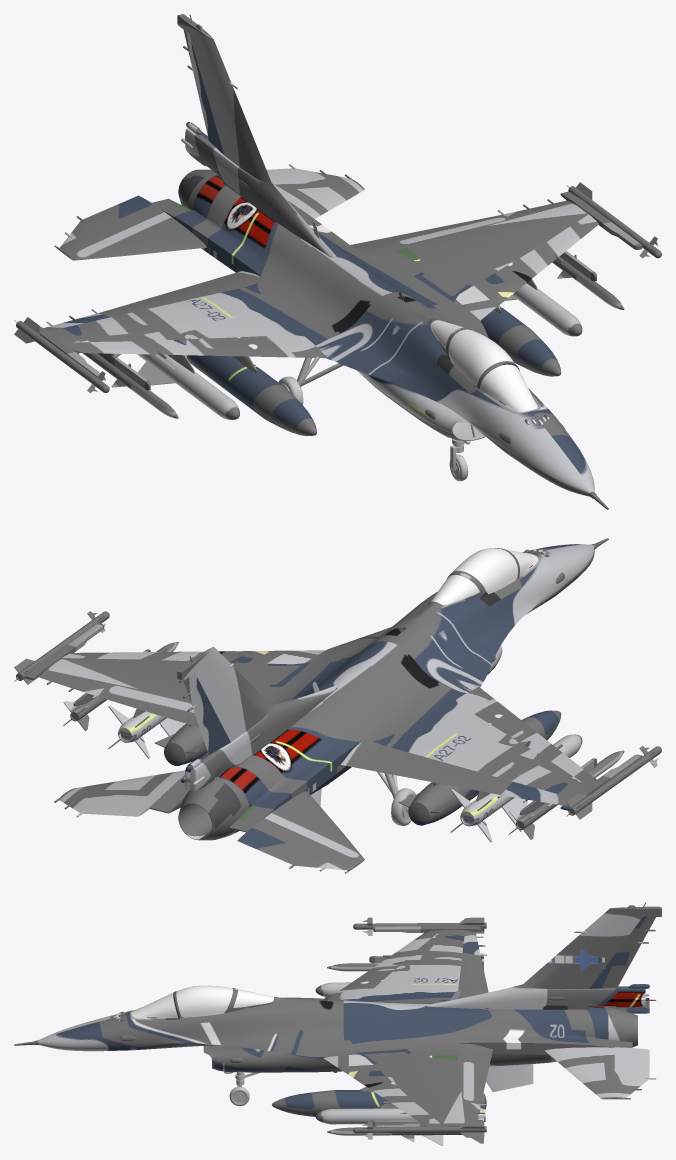
3 views of the same model, one above another, from view 1: azimuth 30°, elevation 25°; view 2: azimuth 150°, elevation 25°; view 3: azimuth 270°, elevation 25° (orthographic). The views are drawn at different scales.
Parts seen in each view (by area): view 1: Fuselage, VStab, HStabR, TankR, HStabL, TankL, Slat2R, ASM-2R, Slat2L, GlassMiddle, FlapR, FlapL (+12 smaller); view 2: Fuselage, VStab, HStabR, FlapR, HStabL, Nozzle, TankR, ASM-2R, FlapL, Slat2R, GlassMiddle, Rudder (+17 smaller); view 3: Fuselage, VStab, HStabL, TankL, FlapL, Rudder, GlassMiddle, ASM-2L, Slat2L, AAM-3L, Fins, FlapR (+13 smaller).
Boxes of the visible parts, x1,y1,x2,y2 form: Fuselage: (48, 173, 594, 496); VStab: (177, 14, 336, 257); HStabR: (54, 195, 206, 260); TankR: (186, 355, 316, 435); HStabL: (266, 164, 364, 218); TankL: (480, 305, 561, 376); Slat2R: (185, 335, 327, 358); ASM-2R: (114, 353, 239, 419); Slat2L: (456, 258, 545, 320); GlassMiddle: (449, 329, 514, 385); FlapR: (98, 271, 264, 317); FlapL: (350, 215, 512, 255); Fuselage: (46, 544, 594, 833); VStab: (177, 646, 336, 791); HStabR: (237, 791, 364, 873); FlapR: (340, 738, 512, 794); HStabL: (54, 770, 185, 817); Nozzle: (178, 779, 242, 840); TankR: (398, 710, 561, 825); ASM-2R: (450, 734, 582, 842); FlapL: (98, 683, 199, 727); Slat2R: (456, 687, 545, 742); GlassMiddle: (453, 548, 517, 594); Rudder: (179, 673, 230, 754); Fuselage: (38, 929, 608, 1123); VStab: (424, 902, 661, 1009); HStabL: (545, 1047, 656, 1099); TankL: (272, 1090, 486, 1116); FlapL: (456, 1043, 492, 1104); Rudder: (589, 915, 661, 988); GlassMiddle: (176, 985, 233, 1017); ASM-2L: (315, 1107, 485, 1145); Slat2L: (323, 1054, 398, 1095); AAM-3L: (353, 1121, 486, 1139); Fins: (486, 1064, 533, 1091); FlapR: (458, 952, 488, 998).
Size of the model in its own units: 11.54 by 5.22 by 15.09.
2 materials, 1 textured.
